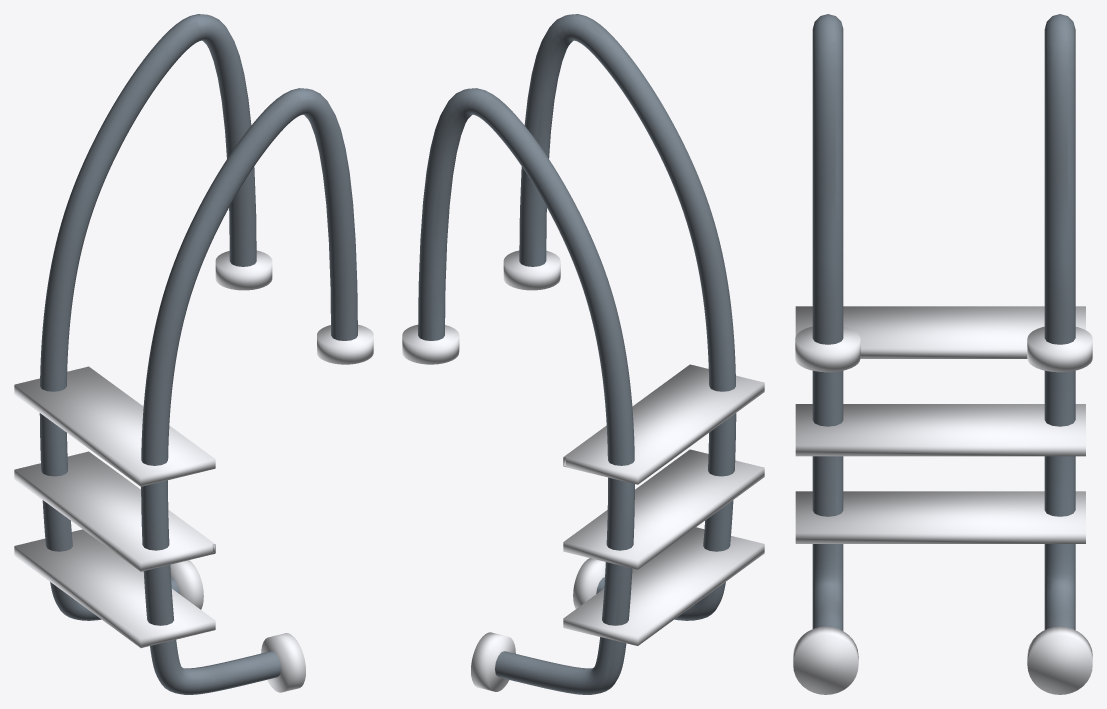
The model's file is PoolLadder.fbx.
3 renders of one model, left to right at view 1: azimuth 30°, elevation 25°; view 2: azimuth 150°, elevation 25°; view 3: azimuth 270°, elevation 25°, orthographic. The views are drawn at different scales.
Parts seen in each view (by area): view 1: PoolLadder; view 2: PoolLadder; view 3: PoolLadder.
Boxes of the visible parts, x1=… form: PoolLadder: x1=14, y1=14, x2=373, y2=694; PoolLadder: x1=402, y1=14, x2=764, y2=694; PoolLadder: x1=793, y1=14, x2=1092, y2=694.
Bounding box in the file's own units: 107 × 251 × 100.
1 material, 1 textured.
